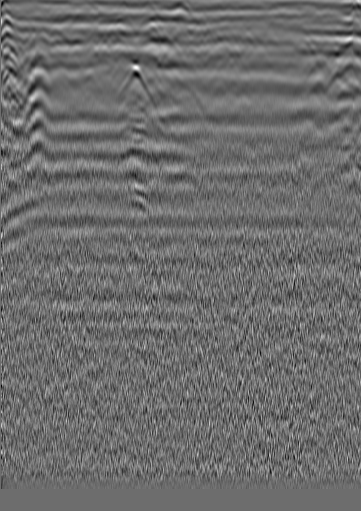가스: (112, 67, 154, 102)
상수: (303, 5, 323, 25)
오수: (23, 14, 43, 34)
우수: (169, 12, 189, 32)
